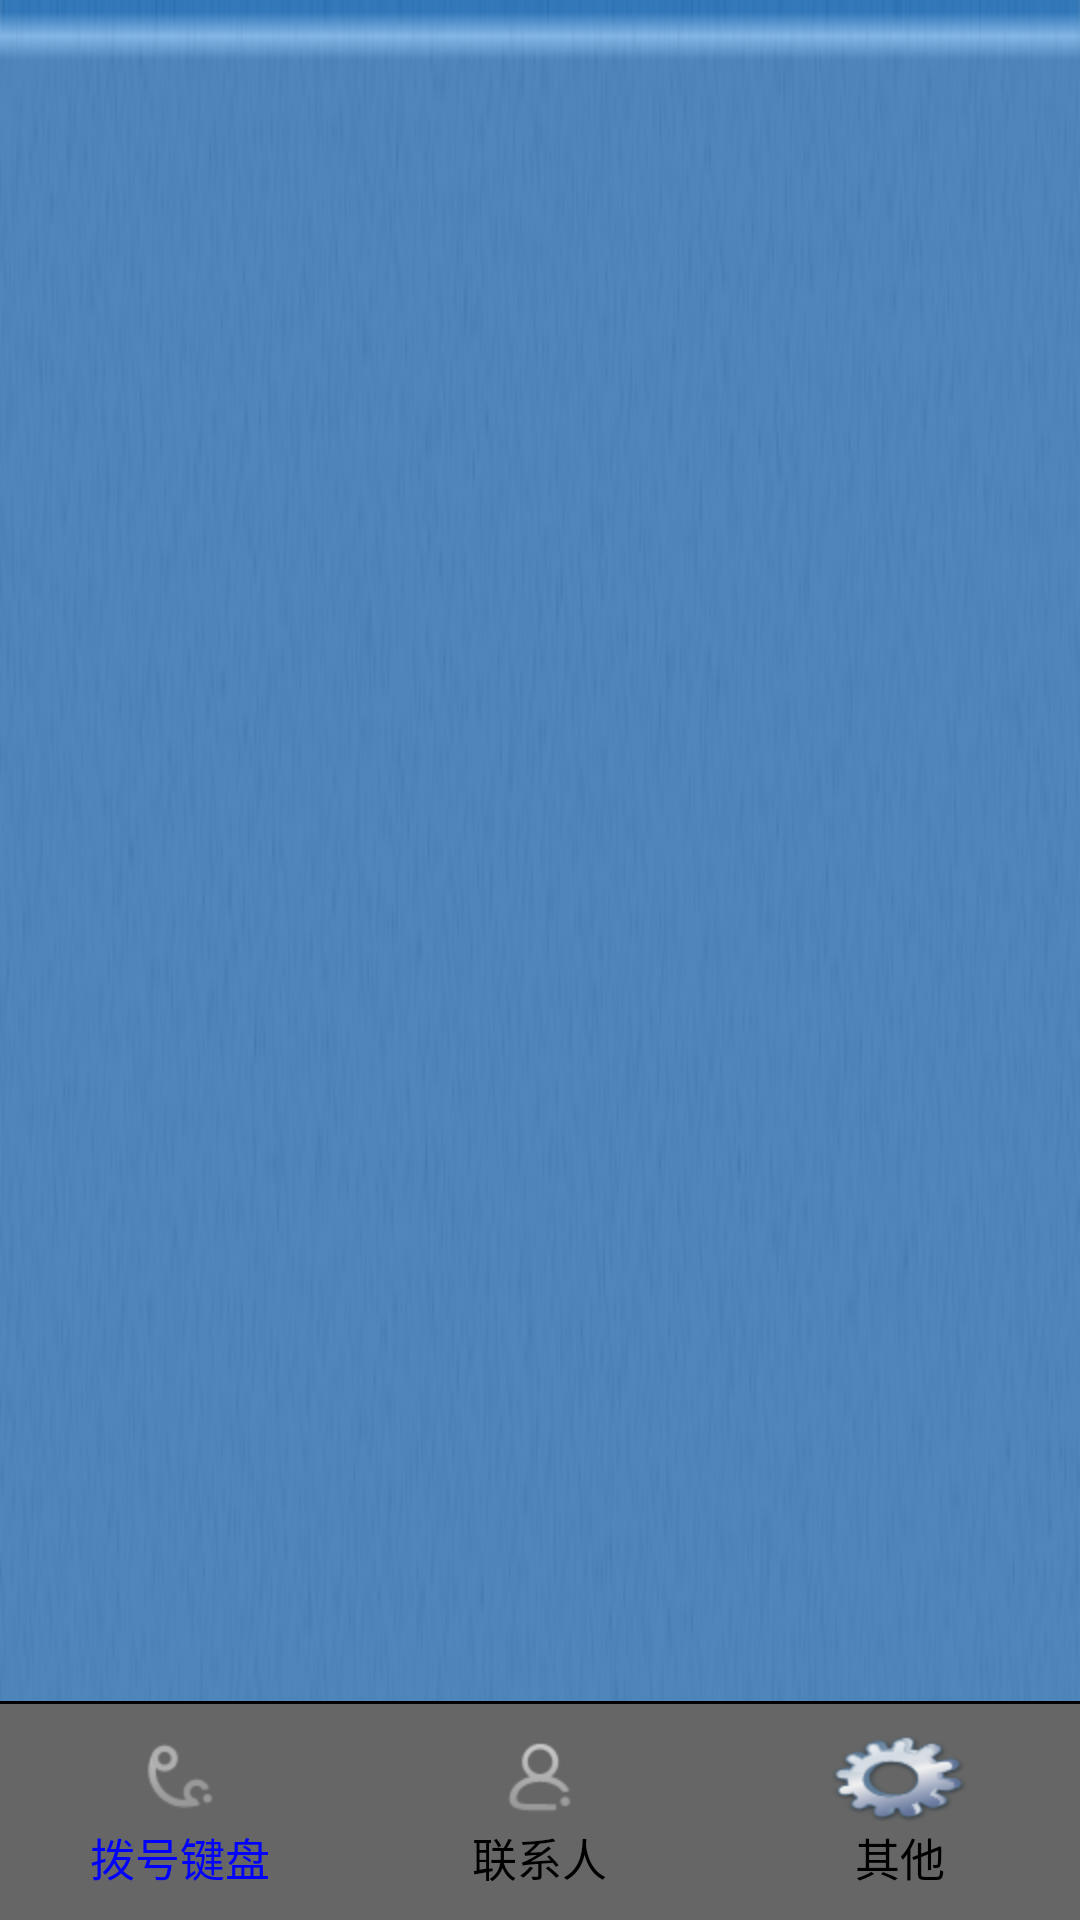

Named icons in this screenshot (1080×1920) and their bounding boxes, [x1, y1, x2, y2]:
setting: [836, 1737, 961, 1818]
